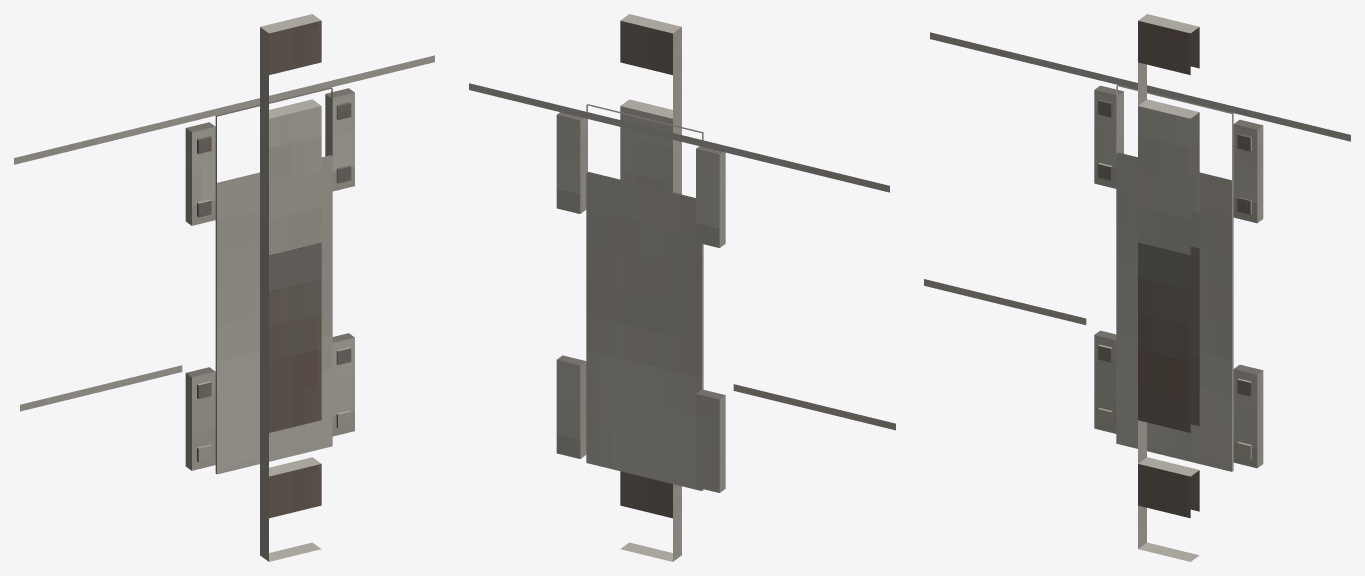
The picture shows the model from 3 angles, left to right: view 1: azimuth 30°, elevation 25°; view 2: azimuth 150°, elevation 25°; view 3: azimuth 330°, elevation 25°; orthographic projection.
Size of the model in its own units: 1 by 1.2 by 0.0969.
